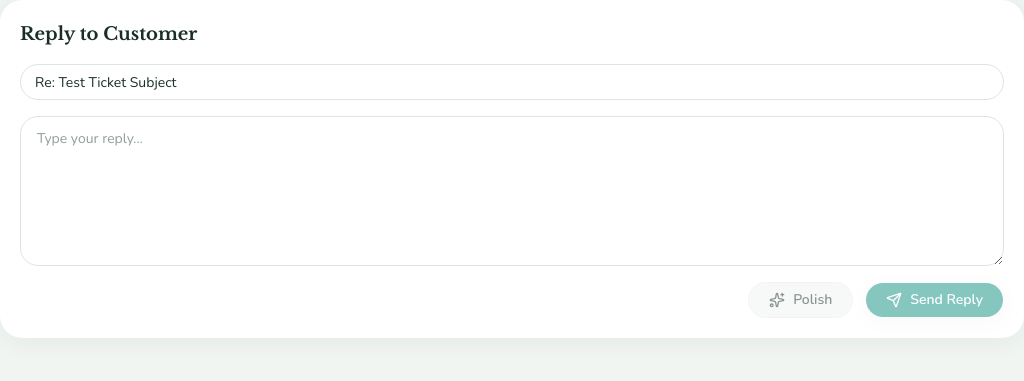
ReplyForm › displays error message when sending with empty subject
Expected: the text "Reply to Customer" is shown, [20, 23, 197, 45]
Type "Test reply body" into the text box with placeholder "Type your reply..." at (512, 191), box [20, 116, 1004, 266]
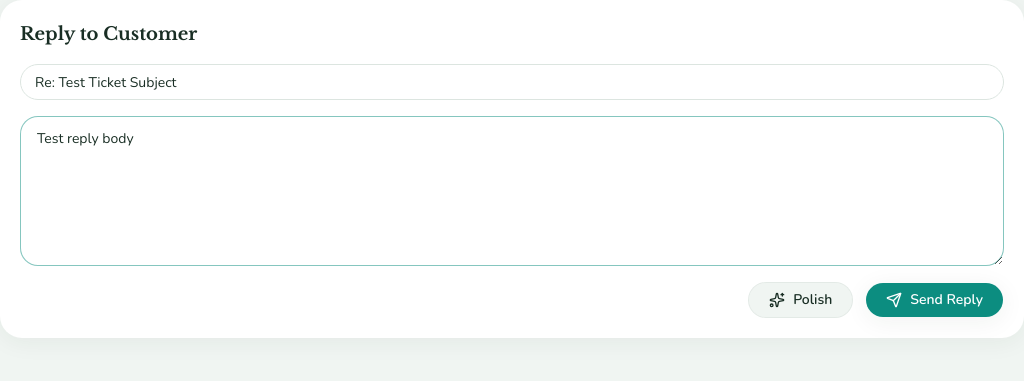
Clear the field with placeholder "Subject" at (512, 82), box [20, 64, 1004, 100]
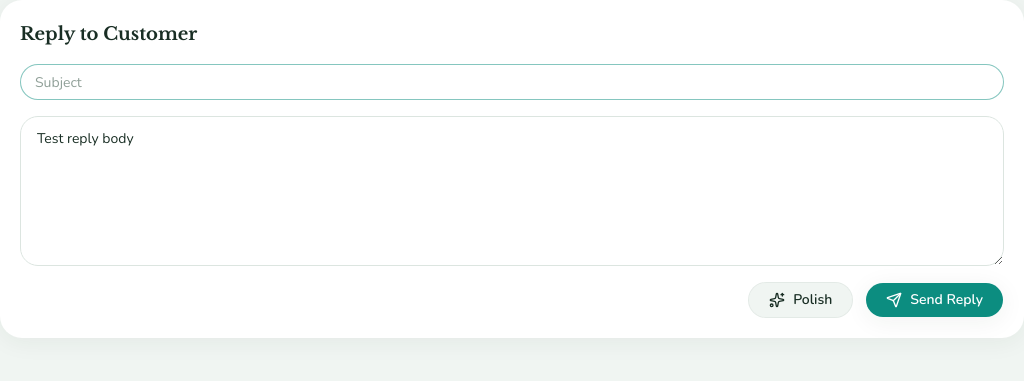
Click the button "Send Reply" at (935, 300), box [865, 282, 1004, 318]
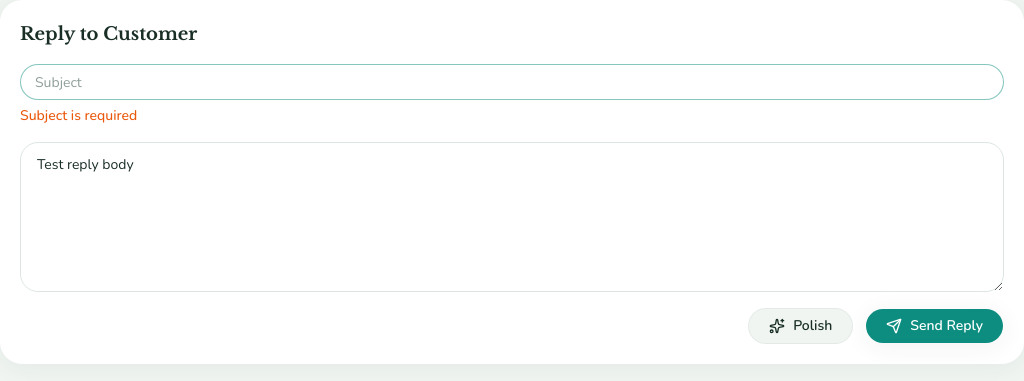
Now the text "Subject is required" is shown, box [20, 106, 137, 125]
